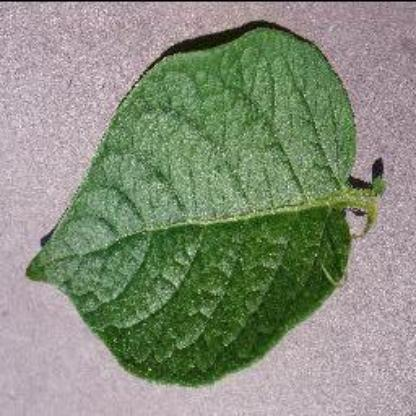Healthy-plant: (22, 21, 394, 390)
